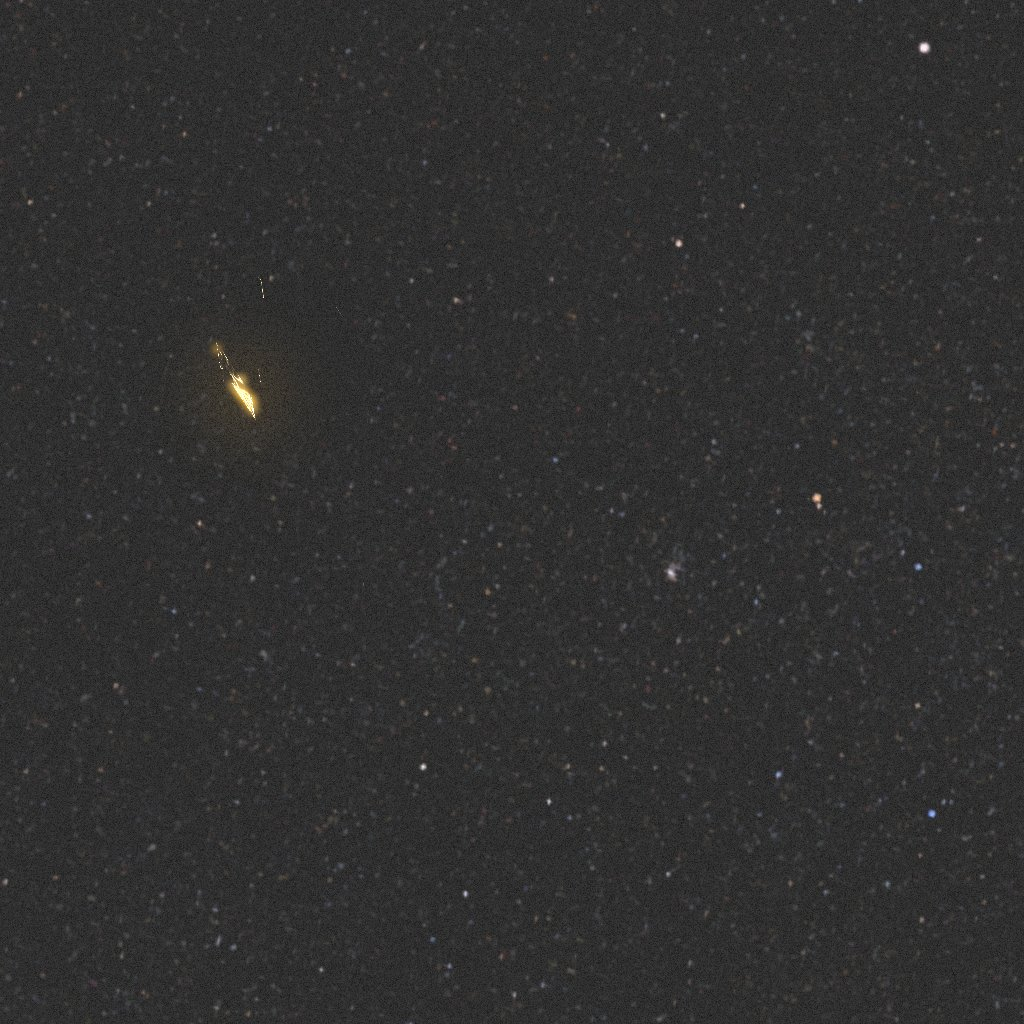earth_observation_sat_1: (203, 266, 376, 713)
